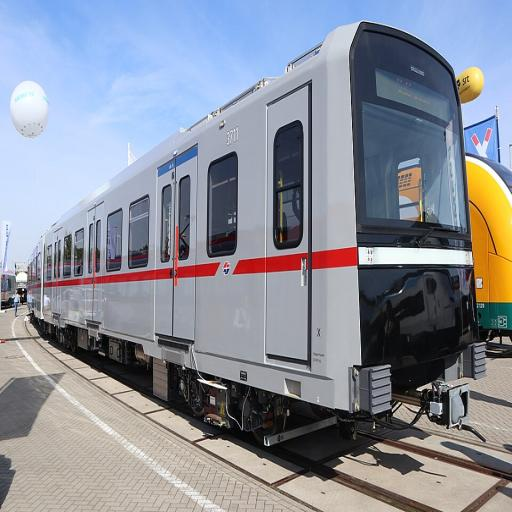X-Wagen: (26, 17, 488, 429)
